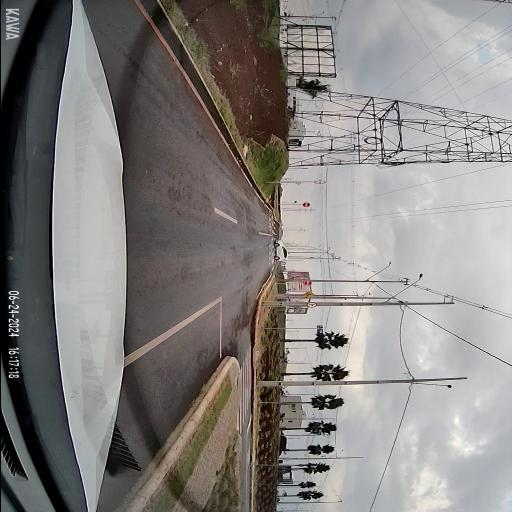A-32b: (304, 291, 314, 297)
R-1: (300, 202, 310, 207), (304, 281, 312, 286)
